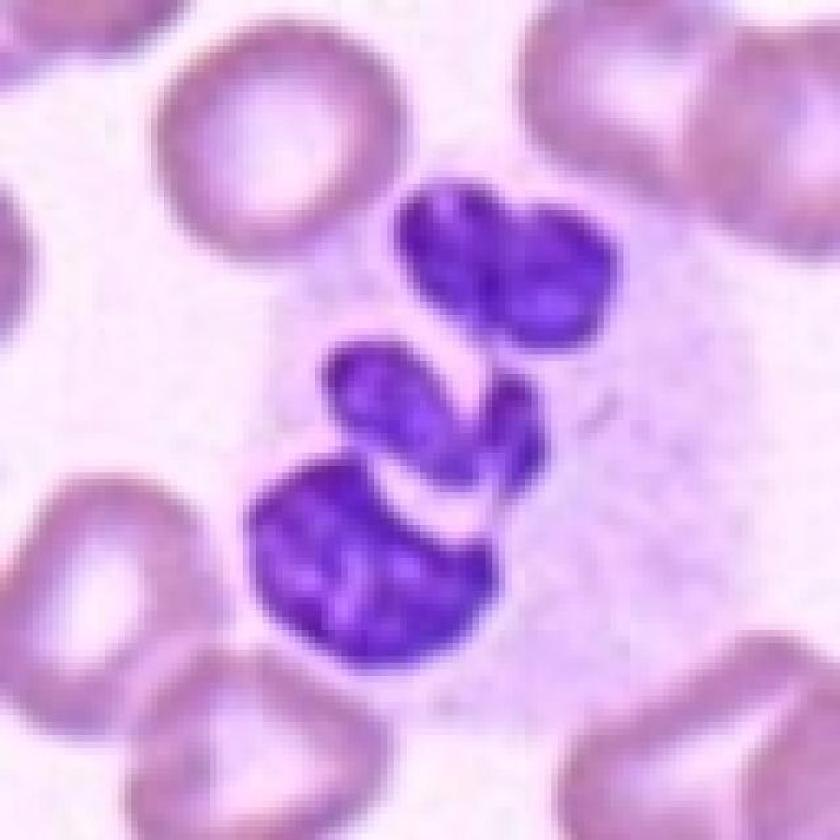neutrophil: (235, 140, 764, 739)
